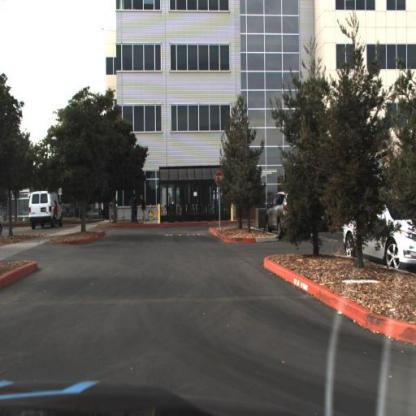car: (342, 191, 416, 277), (264, 190, 308, 239), (29, 191, 66, 230), (265, 190, 295, 234)
pedestrian: (139, 194, 149, 226), (51, 200, 60, 229), (131, 194, 136, 223), (135, 194, 139, 219)
truck: (27, 191, 64, 232)
